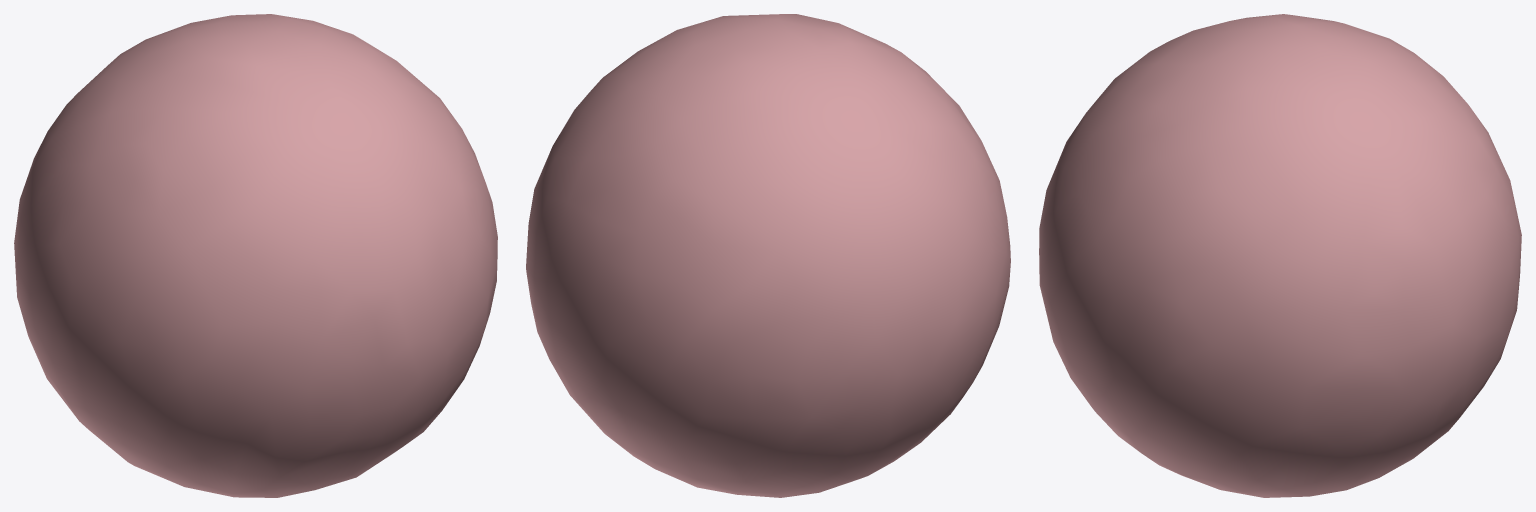
Rendered from fma78475_mm3087.glb.
3 views of the same model, side by side, from view 1: azimuth 30°, elevation 25°; view 2: azimuth 150°, elevation 25°; view 3: azimuth 270°, elevation 25° (orthographic).
Visible parts, largest first — view 1: FMA78475_MM3087; view 2: FMA78475_MM3087; view 3: FMA78475_MM3087.
Boxes of the visible parts, x1,y1,x2,y2 form: FMA78475_MM3087: (14, 14, 497, 497); FMA78475_MM3087: (526, 14, 1010, 497); FMA78475_MM3087: (1039, 14, 1521, 497).
Bounding box in the file's own units: 0.00258 × 0.00259 × 0.00258.
